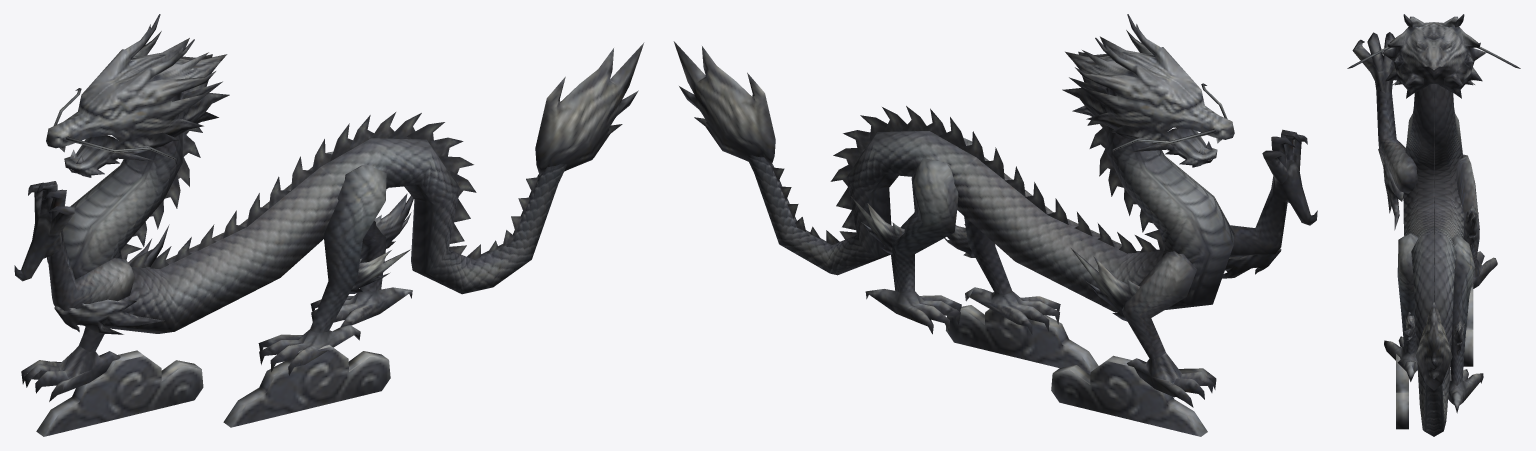
The model's file is S2_Build_XSC091.FBX.
3 renders of one model, left to right at view 1: azimuth 30°, elevation 25°; view 2: azimuth 150°, elevation 25°; view 3: azimuth 270°, elevation 25°, orthographic. The views are drawn at different scales.
Parts seen in each view (by area): view 1: S2_Build_XSC091; view 2: S2_Build_XSC091; view 3: S2_Build_XSC091.
Part boxes in pixels (left/top/right/bottom): S2_Build_XSC091: left=14, top=14, right=644, bottom=436; S2_Build_XSC091: left=673, top=14, right=1317, bottom=436; S2_Build_XSC091: left=1347, top=14, right=1520, bottom=436.
Size of the model in its own units: 523 by 298 by 140.
1 material, 1 textured.
